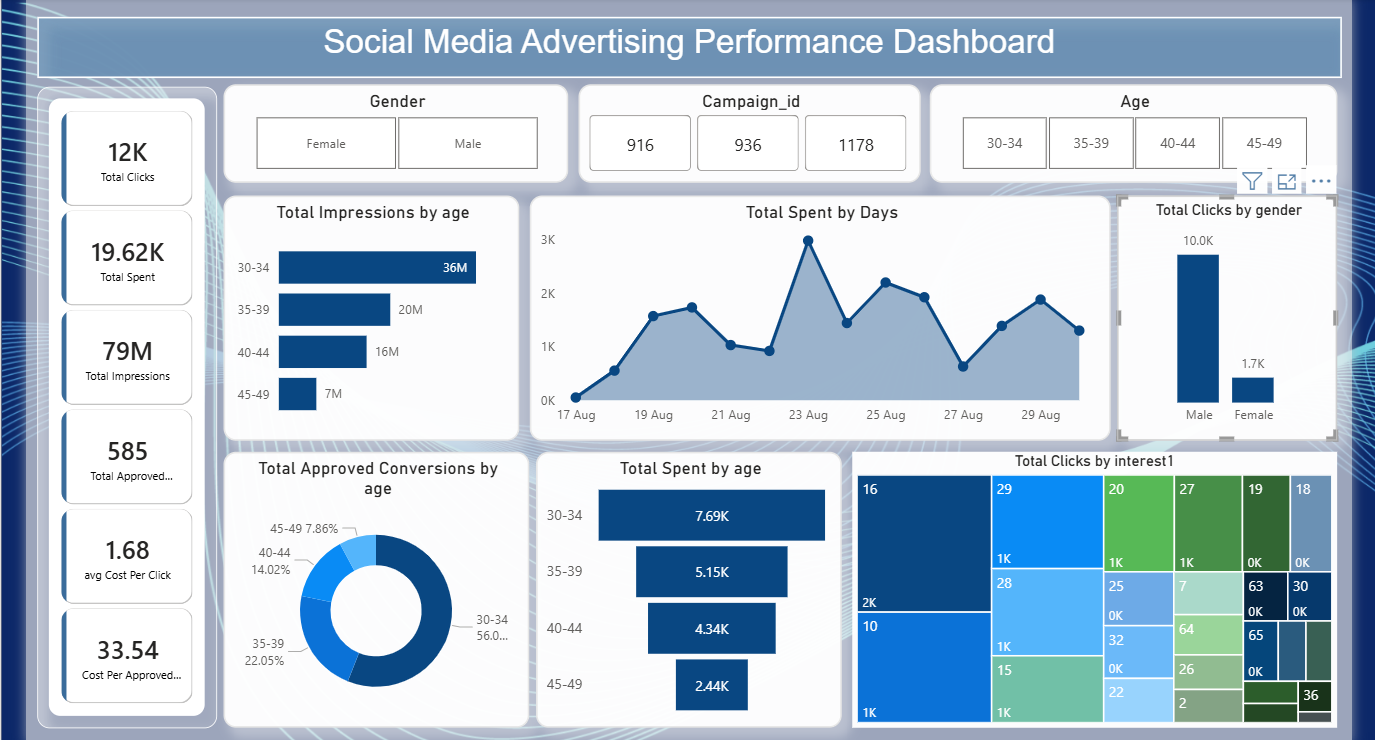

The page's visual inventory and layout, read from the dashboard file:
{"tool":"powerbi","page":{"name":"Dashboard","canvas":[1280,720],"ordinal":0},"visuals":[{"type":"textbox","box":[10.9,18.1,1259.5,59.1],"z":0},{"type":"cardVisual","fields":{"Data":["data.Total Clicks","data.Total Spent","data.Total Impressions","data.Total Approved Conversions","data.Cost Per Click","data.Cost Per Approved Conversion"]},"box":[10.9,85.7,173.7,618.9],"z":1000},{"type":"lineChart","title":"Total Spent by Days","fields":{"Y":["data.Total Spent"],"Category":["data.reporting_start.Variation.Date Hierarchy.Year","data.reporting_start.Variation.Date Hierarchy.Quarter","data.reporting_start.Variation.Date Hierarchy.Month","data.reporting_start.Variation.Date Hierarchy.Day"]},"box":[486.2,182.2,561,244.9],"z":2000},{"type":"clusteredBarChart","fields":{"Category":["data.age"],"Y":["data.Total Impressions"]},"box":[190.6,182.2,285.9,244.9],"z":3000},{"type":"donutChart","fields":{"Category":["data.age"],"Y":["data.Total Approved Conversions"]},"box":[190.6,437.9,295.6,266.6],"z":4000},{"type":"slicer","title":"Age","fields":{"Values":["data.age"]},"box":[872.3,86.9,393.3,85.7],"z":5000},{"type":"slicer","title":"Gender","fields":{"Values":["data.gender"]},"box":[190.6,86.9,333,85.7],"z":6000},{"type":"advancedSlicerVisual","title":"Campaign_id","fields":{"Values":["data.campaign_id"]},"box":[536.9,86.9,330.6,85.7],"z":7000},{"type":"funnel","fields":{"Category":["data.age"],"Y":["data.Total Spent"]},"box":[492.2,437.9,295.6,266.6],"z":8000},{"type":"treemap","fields":{"Values":["data.Total Clicks"],"Group":["data.interest1"]},"box":[797.5,437.9,468.1,266.6],"z":9000},{"type":"columnChart","fields":{"Category":["data.gender"],"Y":["data.Total Clicks"]},"box":[1053.2,182.2,212.3,244.9],"z":10000}]}

Visuals, with their boxes in screenshot pixels (x1, y1, x2, y2):
textbox: box(26, 8, 1351, 71)
cardVisual - data.Total Clicks x data.Total Spent: box(26, 79, 209, 731)
"Total Spent by Days" lineChart: box(526, 181, 1117, 439)
clusteredBarChart - data.age x data.Total Impressions: box(215, 181, 516, 439)
donutChart - data.age x data.Total Approved Conversions: box(215, 450, 526, 731)
"Age" slicer: box(932, 81, 1346, 171)
"Gender" slicer: box(215, 81, 565, 171)
"Campaign_id" advancedSlicerVisual: box(579, 81, 927, 171)
funnel - data.age x data.Total Spent: box(532, 450, 844, 731)
treemap - data.Total Clicks x data.interest1: box(854, 450, 1346, 731)
columnChart - data.gender x data.Total Clicks: box(1123, 181, 1346, 439)
